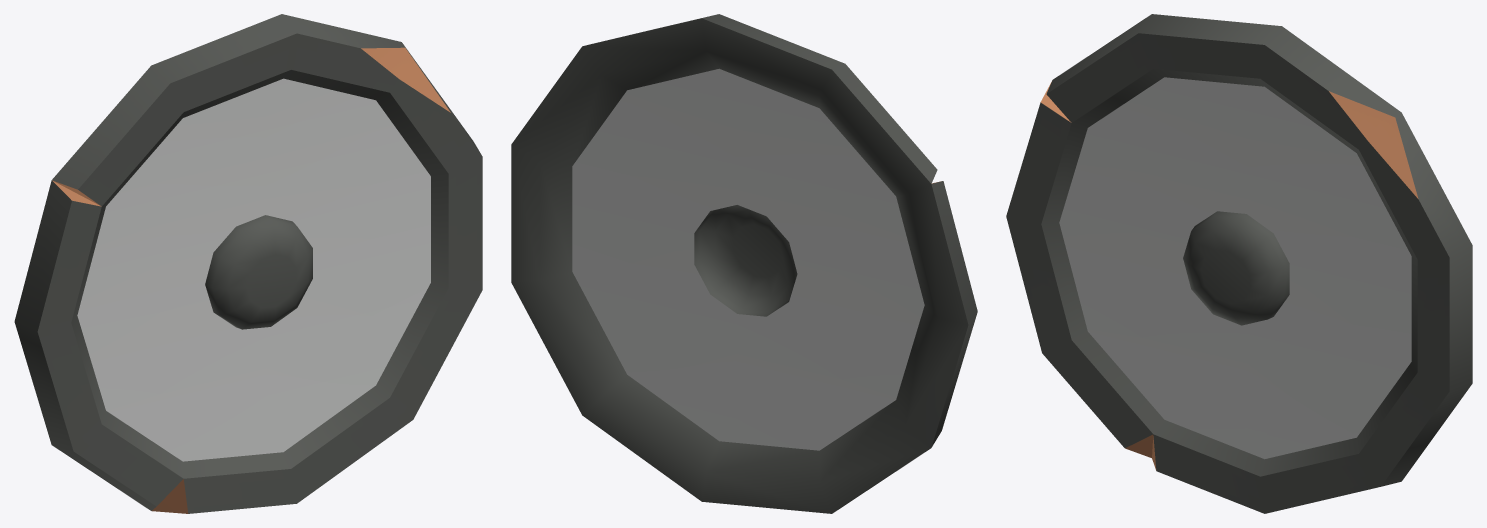
File: kalkan 2.fbx
3 renders of one model, left to right at view 1: azimuth 30°, elevation 25°; view 2: azimuth 150°, elevation 25°; view 3: azimuth 330°, elevation 25°, orthographic.
Parts seen in each view (by area): view 1: kalkan 2; view 2: kalkan 2; view 3: kalkan 2.
Boxes of the visible parts, left/top/right/bottom form: kalkan 2: left=14, top=14, right=482, bottom=513; kalkan 2: left=511, top=14, right=977, bottom=513; kalkan 2: left=1006, top=14, right=1472, bottom=513.
Size of the model in its own units: 48.69 by 49.19 by 4.32.
